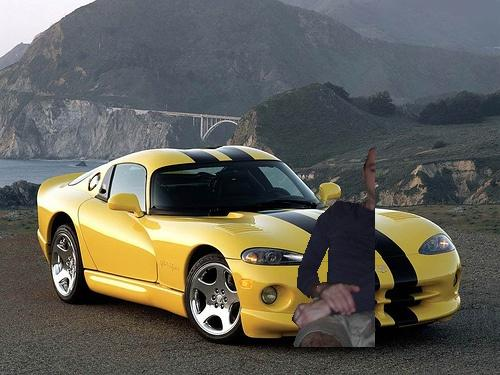tampered: (293, 148, 375, 347)
